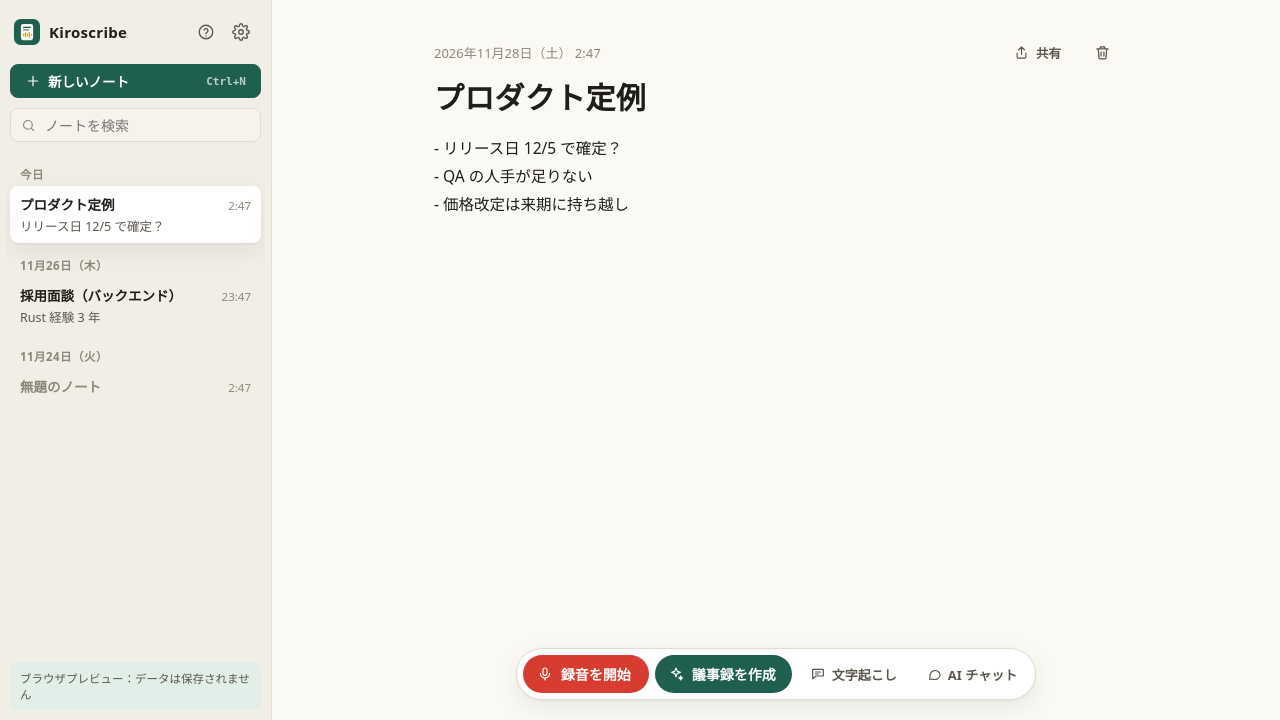
Test case: AI 議事録 › [MIN-006] タイトルが空なら生成したタイトルを付ける
Expected: the field showing "プロダクト定例" is shown, [434, 74, 1118, 121]
Click the button "新しいノート Ctrl+N".
click(136, 81)  # box [10, 64, 261, 98]
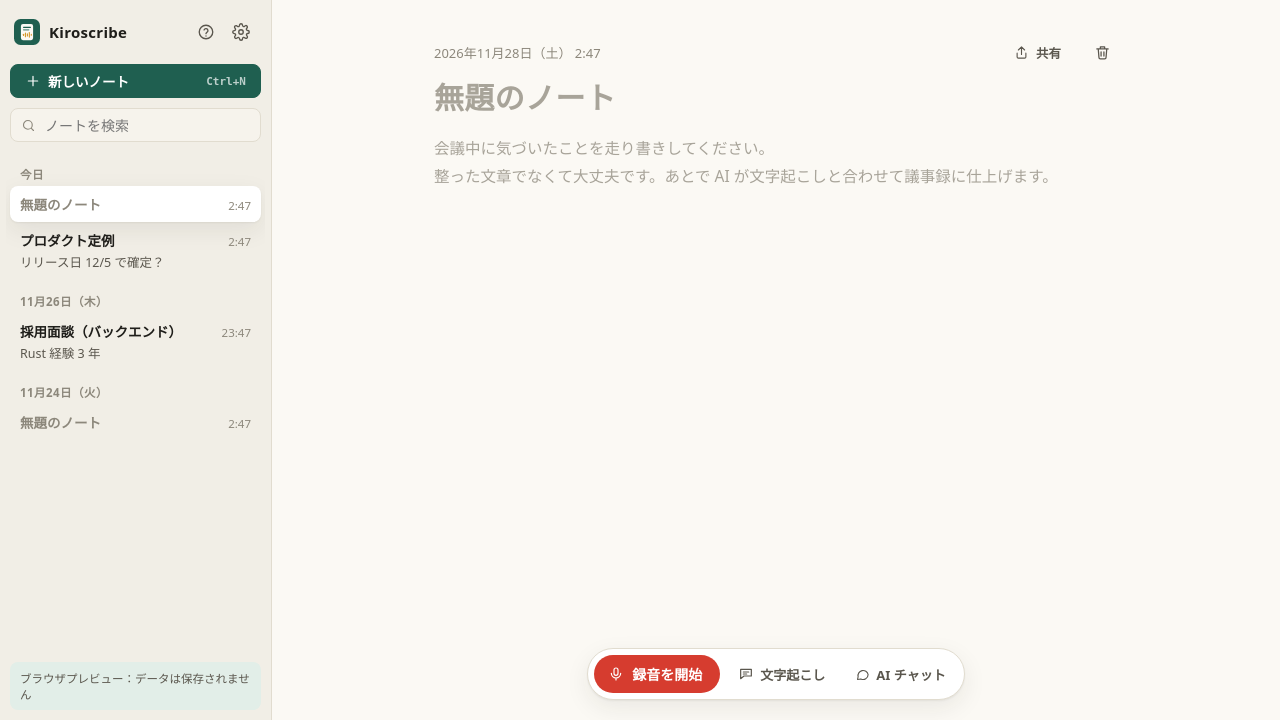
Type "- 予算の件" into the text box named "自分のメモ".
click(776, 351); type("- 予算の件")  # box [434, 135, 1118, 567]
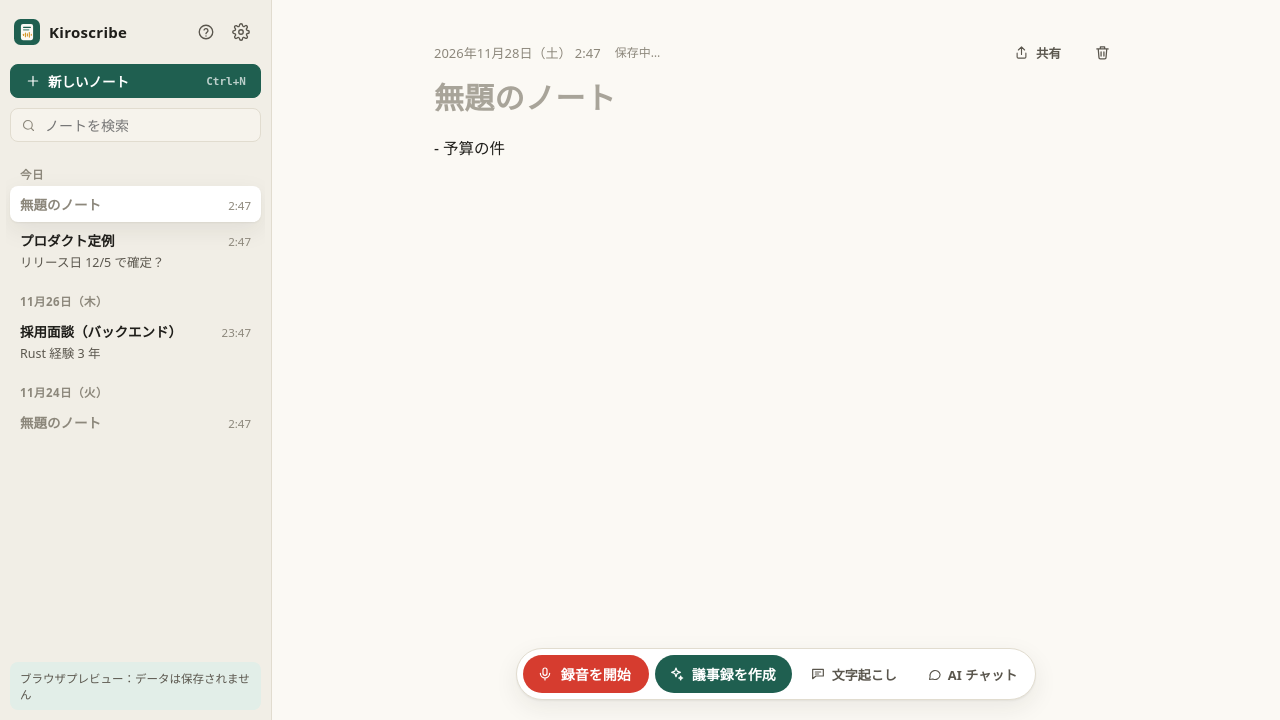
Click the button "議事録を作成".
click(723, 674)  # box [655, 655, 792, 693]
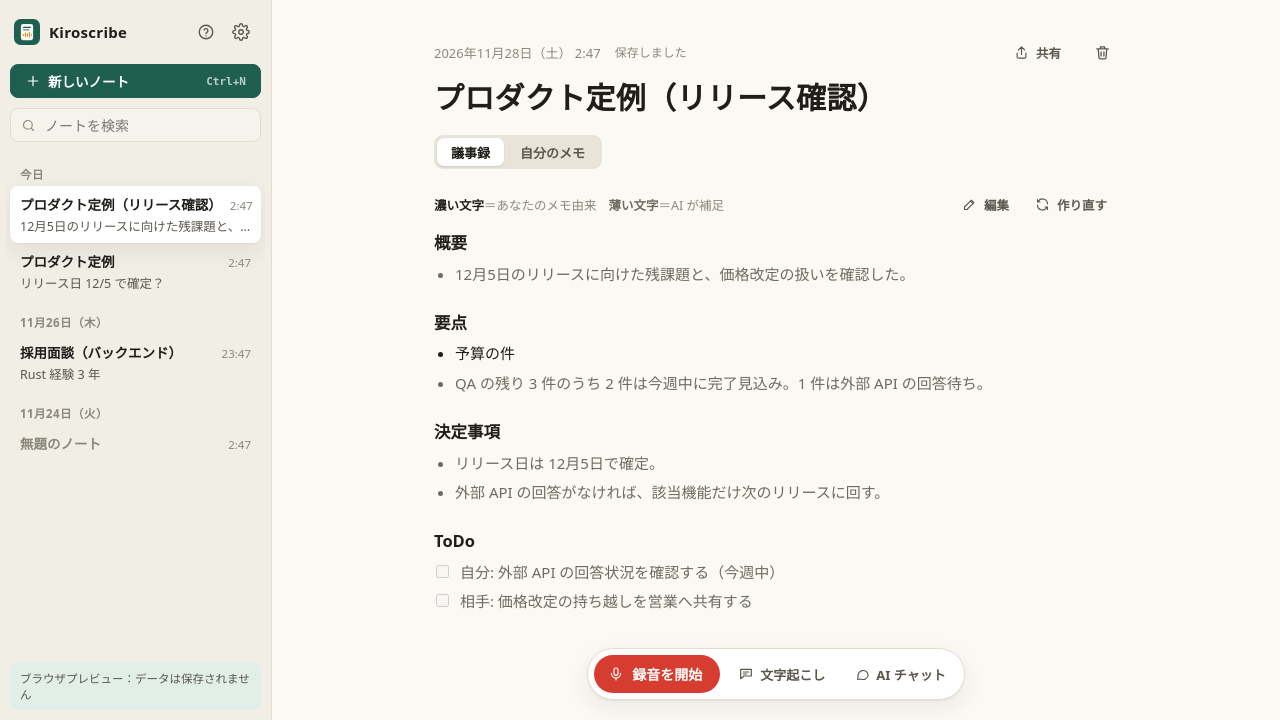
Result: the field named "タイトル" holds "プロダクト定例（リリース確認）" at [434, 74, 1118, 121]
